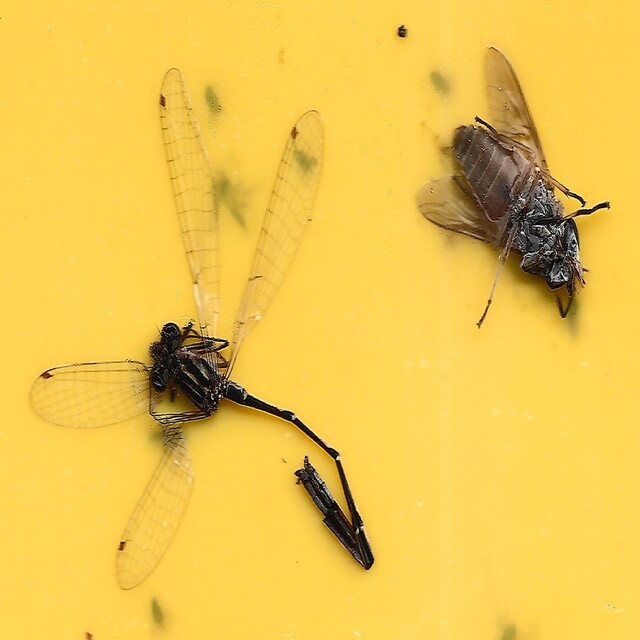Brachycera: (417, 47, 610, 330)
Odonata: (30, 69, 375, 593)
